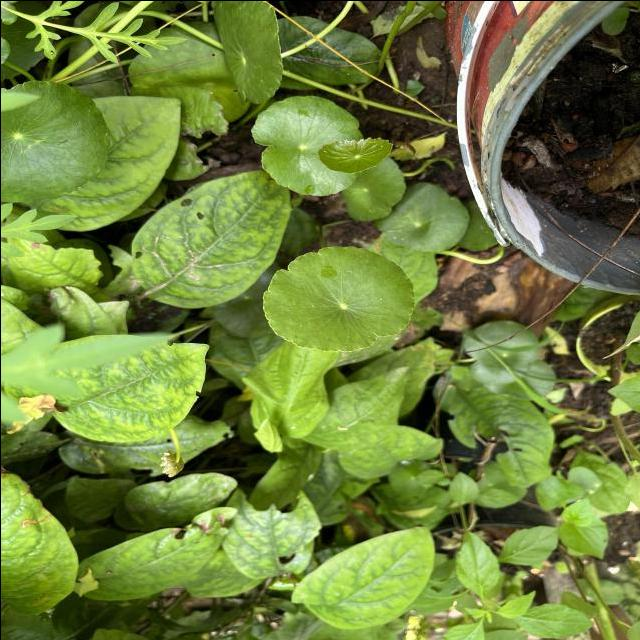Bacopa monnieri: (258, 242, 416, 354), (0, 76, 112, 206), (248, 93, 366, 198), (314, 132, 392, 174)
